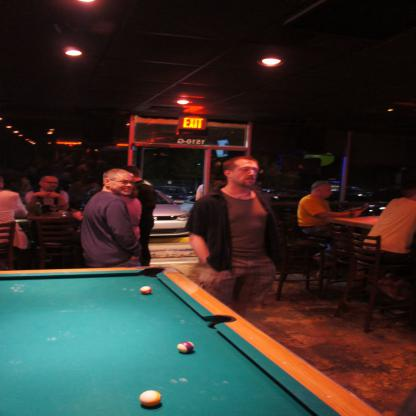Ball: (138, 390, 162, 407), (177, 340, 194, 354), (140, 286, 154, 296)
